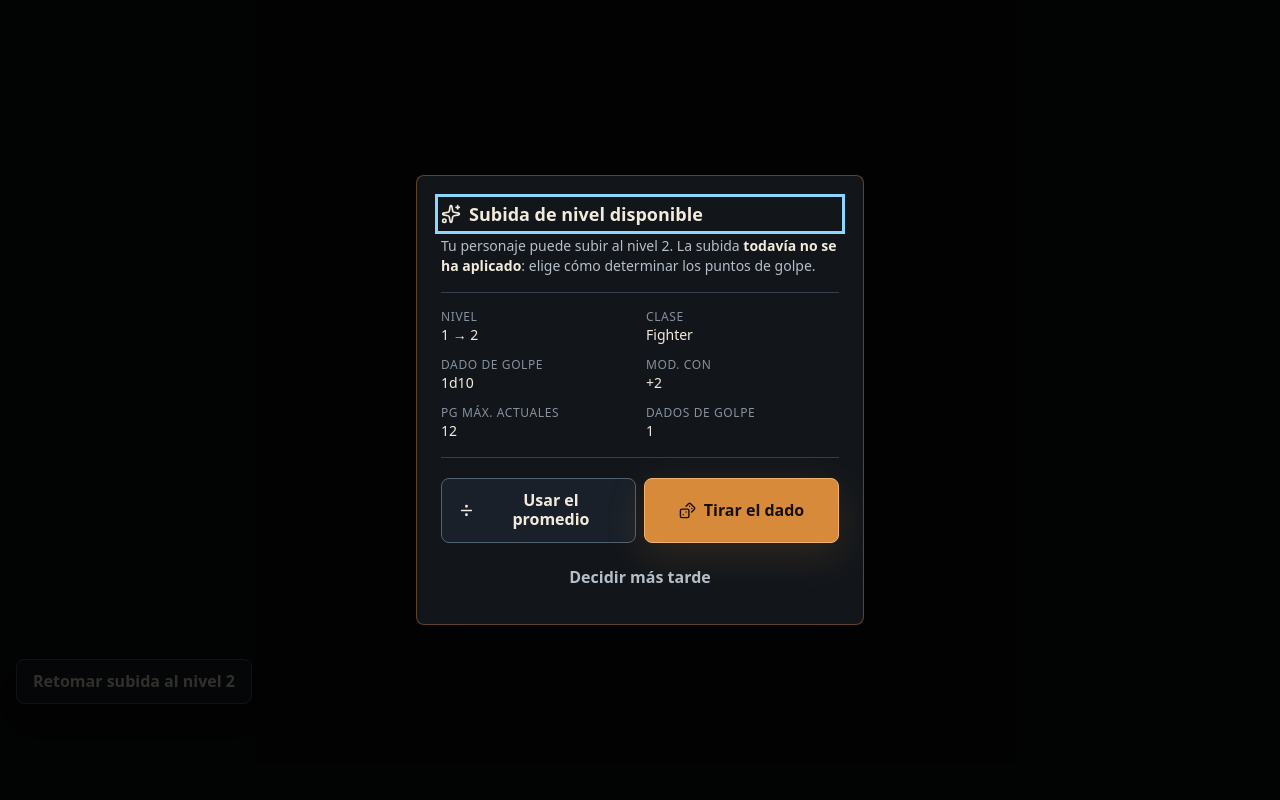
Scenario: E. LevelUpConfirmation — stale payload closes and resynchronises › E. 401 discards the payload, closes the panel and offers no retry
Step 1. Click the button "Tirar el dado" → coordinates (742, 510), box [644,478,839,543]
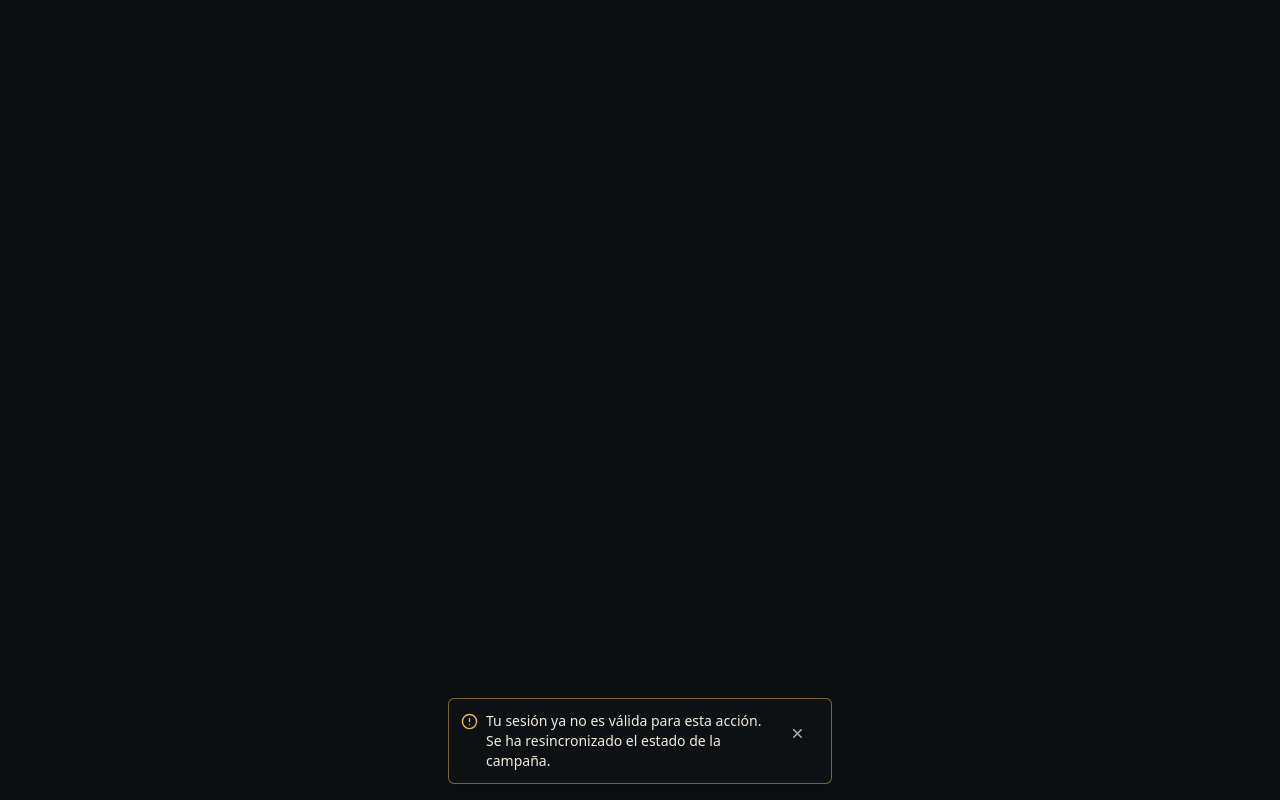
Now the dialog is gone
Now the message is shown, box [448,698,832,784]
Now the button "promedio" is gone
